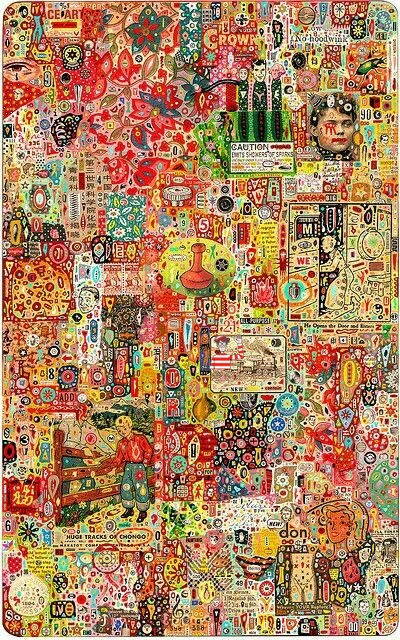waldo: (209, 334, 244, 369)
